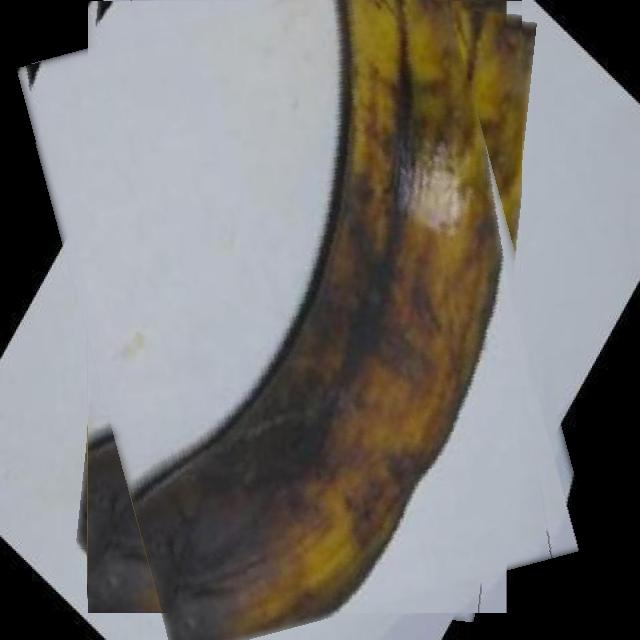Execivamente Madura: (51, 0, 557, 635)
